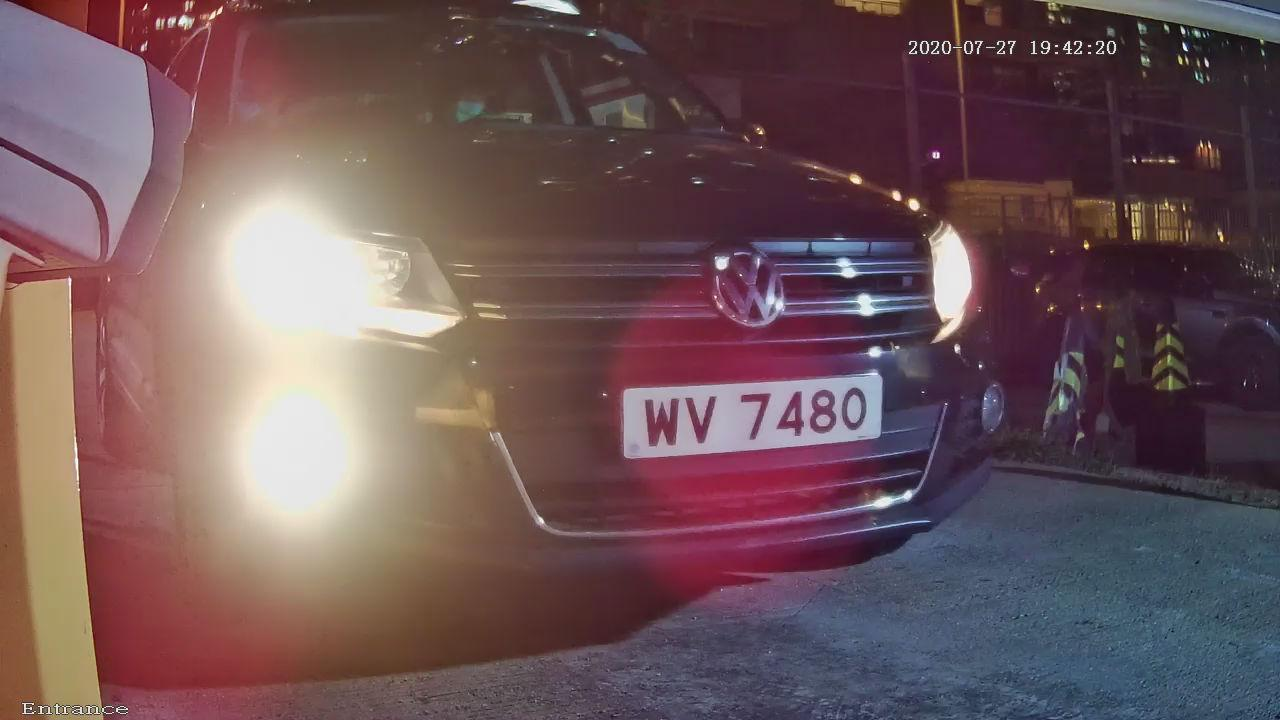privatecar: (178, 26, 1018, 640)
